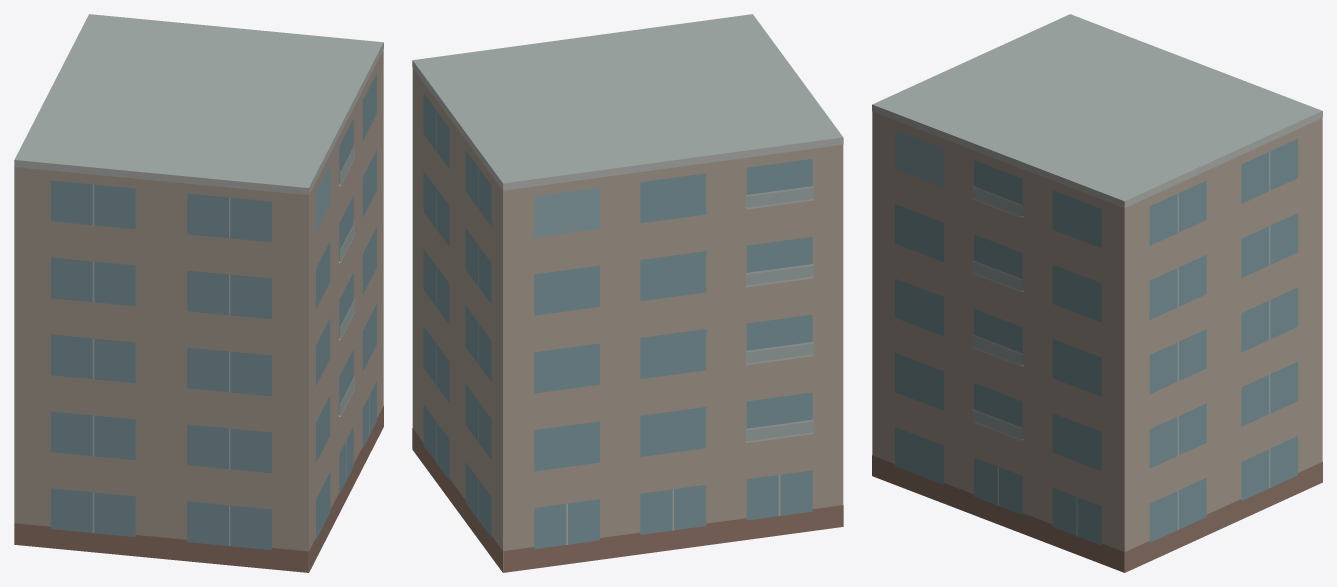
File: survey-upis-32528801.glb
The picture shows the model from 3 angles, left to right: view 1: azimuth 30°, elevation 25°; view 2: azimuth 150°, elevation 25°; view 3: azimuth 270°, elevation 25°; orthographic projection. The views are drawn at different scales.
Visible parts, largest first — view 1: survey-upis-32528801.tmp; view 2: survey-upis-32528801.tmp; view 3: survey-upis-32528801.tmp.
Boxes of the visible parts, bbox=[...] form: survey-upis-32528801.tmp: bbox=[14, 14, 383, 572]; survey-upis-32528801.tmp: bbox=[412, 14, 843, 572]; survey-upis-32528801.tmp: bbox=[872, 14, 1322, 572].
Bounding box in the file's own units: 14.28 × 13.2 × 14.52.
